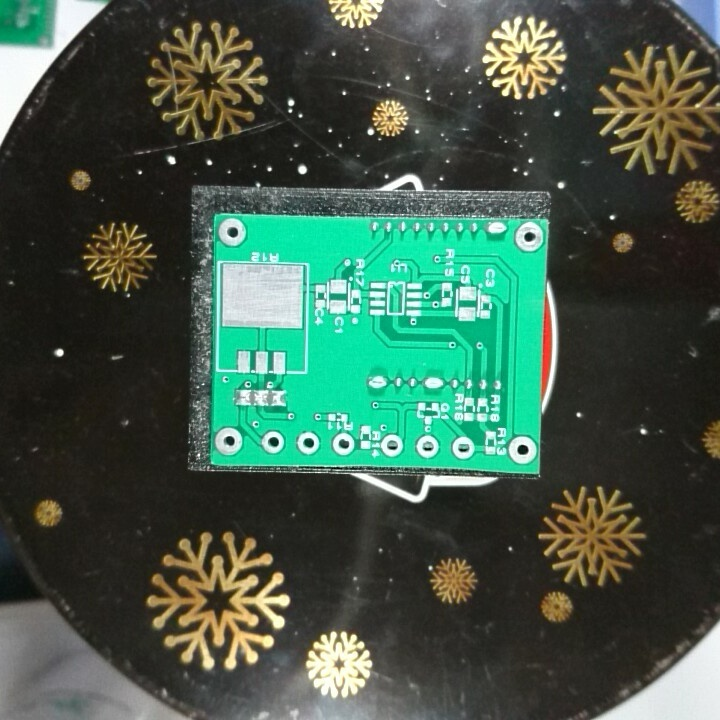F: (217, 215, 248, 249), (513, 220, 545, 252), (214, 426, 245, 458), (507, 433, 537, 465), (259, 427, 288, 455), (294, 429, 321, 457), (329, 429, 355, 458), (414, 432, 440, 460), (379, 432, 405, 459), (451, 434, 476, 460)
P: (363, 372, 390, 392), (420, 373, 448, 392), (483, 219, 509, 239)
